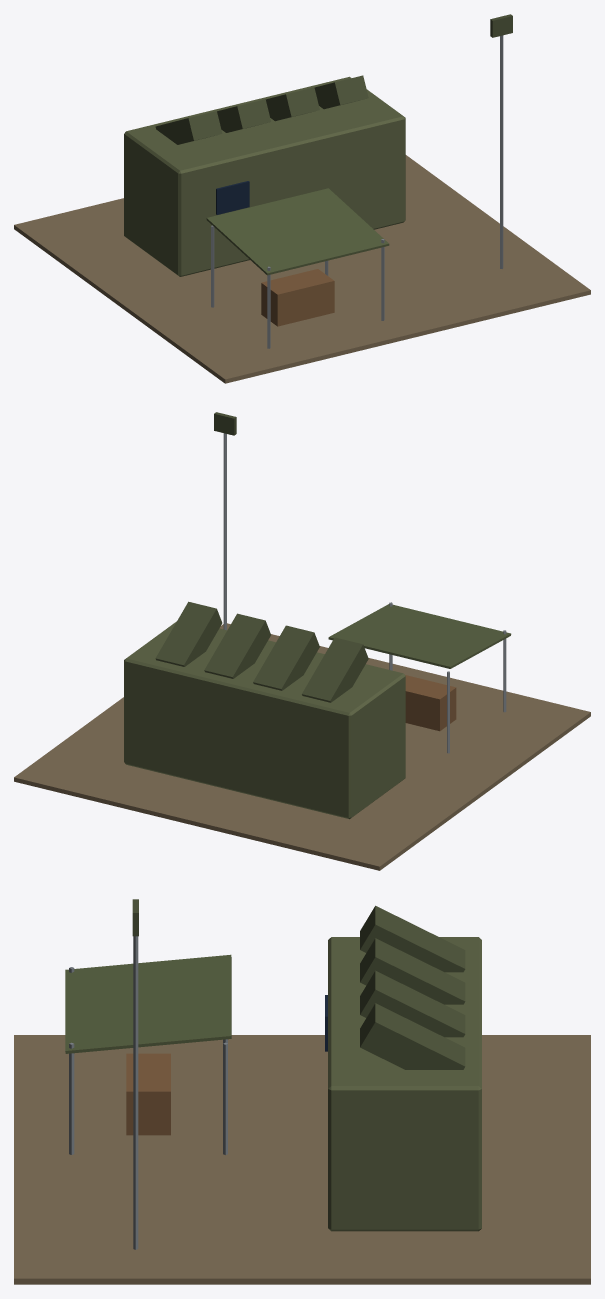
File: drone_site.glb
3 views of the same model, one above another, from view 1: azimuth 30°, elevation 25°; view 2: azimuth 150°, elevation 25°; view 3: azimuth 270°, elevation 25° (orthographic). The views are drawn at different scales.
Visible parts, largest first — view 1: drone_site; view 2: drone_site; view 3: drone_site.
Part boxes in pixels (box(x1,y1,x2,y2)): drone_site: box(14, 14, 590, 383); drone_site: box(14, 412, 590, 870); drone_site: box(14, 899, 590, 1284).
Size of the model in its own units: 9 by 6 by 9.
